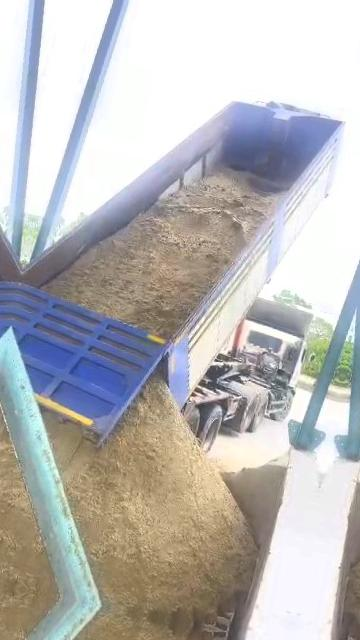sand: (47, 379, 257, 626), (45, 169, 278, 338), (0, 425, 55, 595), (212, 455, 287, 546)
